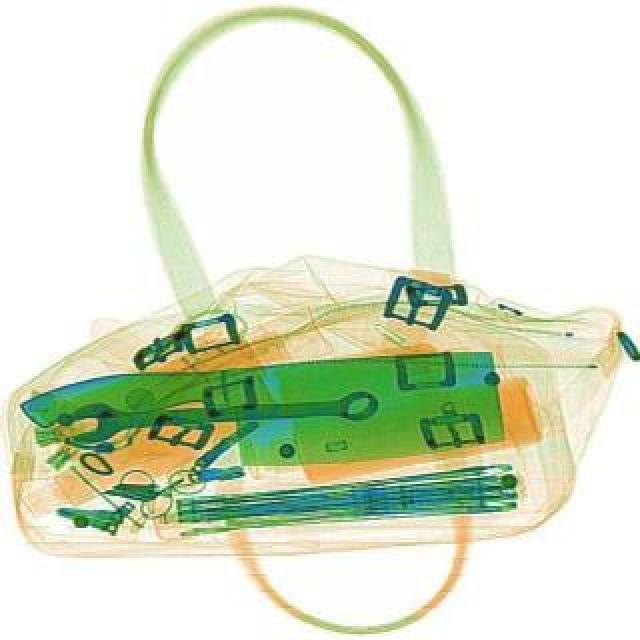knife: (16, 346, 508, 478)
